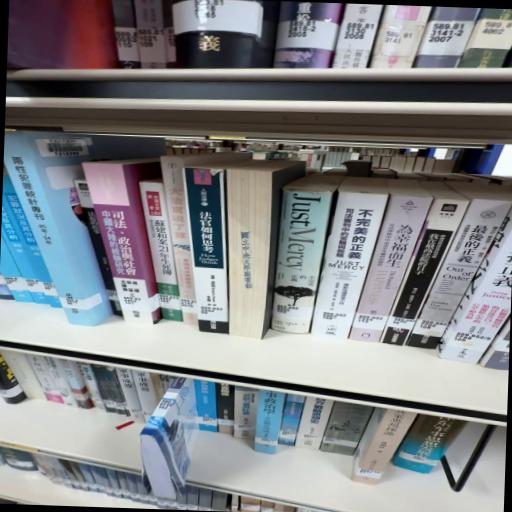backward: (226, 160, 304, 339)
book: (76, 160, 170, 326), (274, 170, 347, 336), (178, 162, 237, 336)
